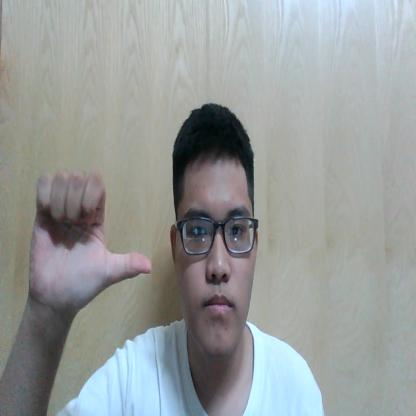left: (30, 170, 154, 306)
